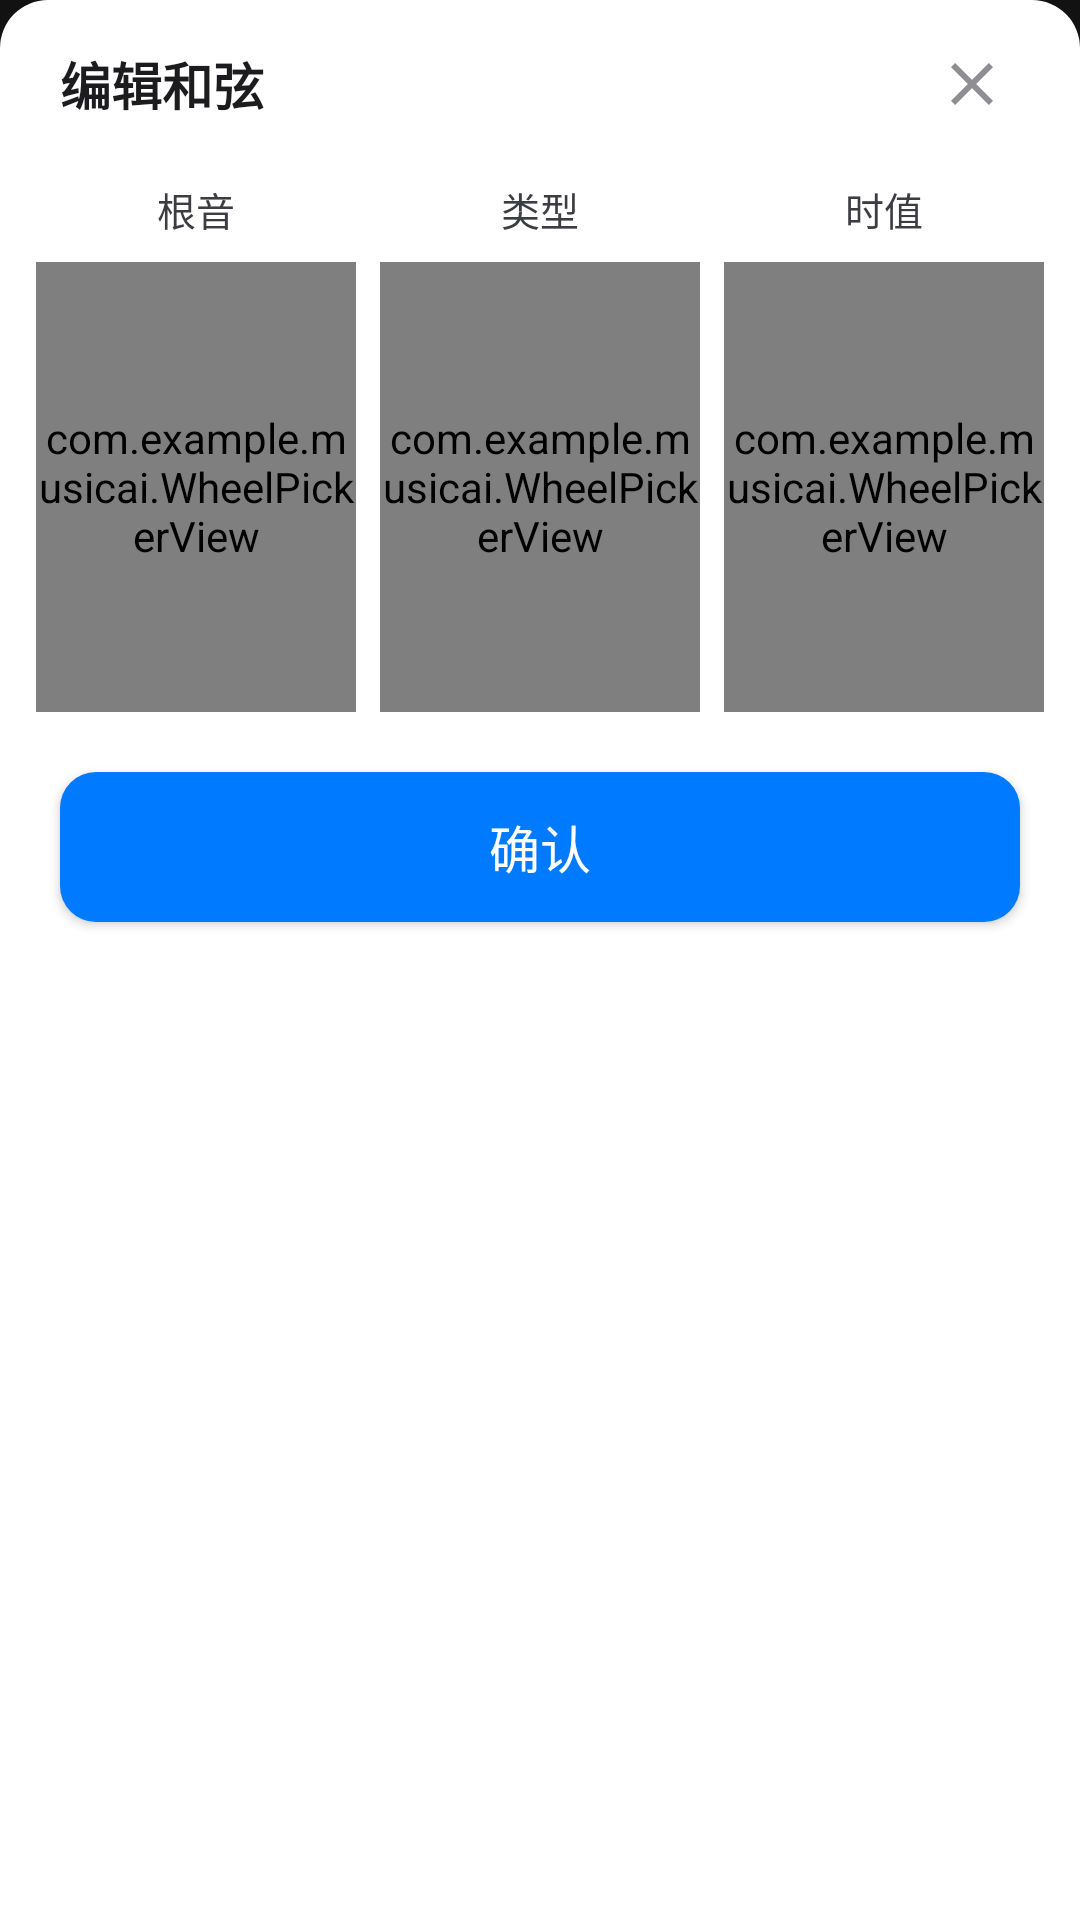

Screen size 1080 x 1920. Icon name, then its center in pixels as (x,y):
关闭: (972,84)
